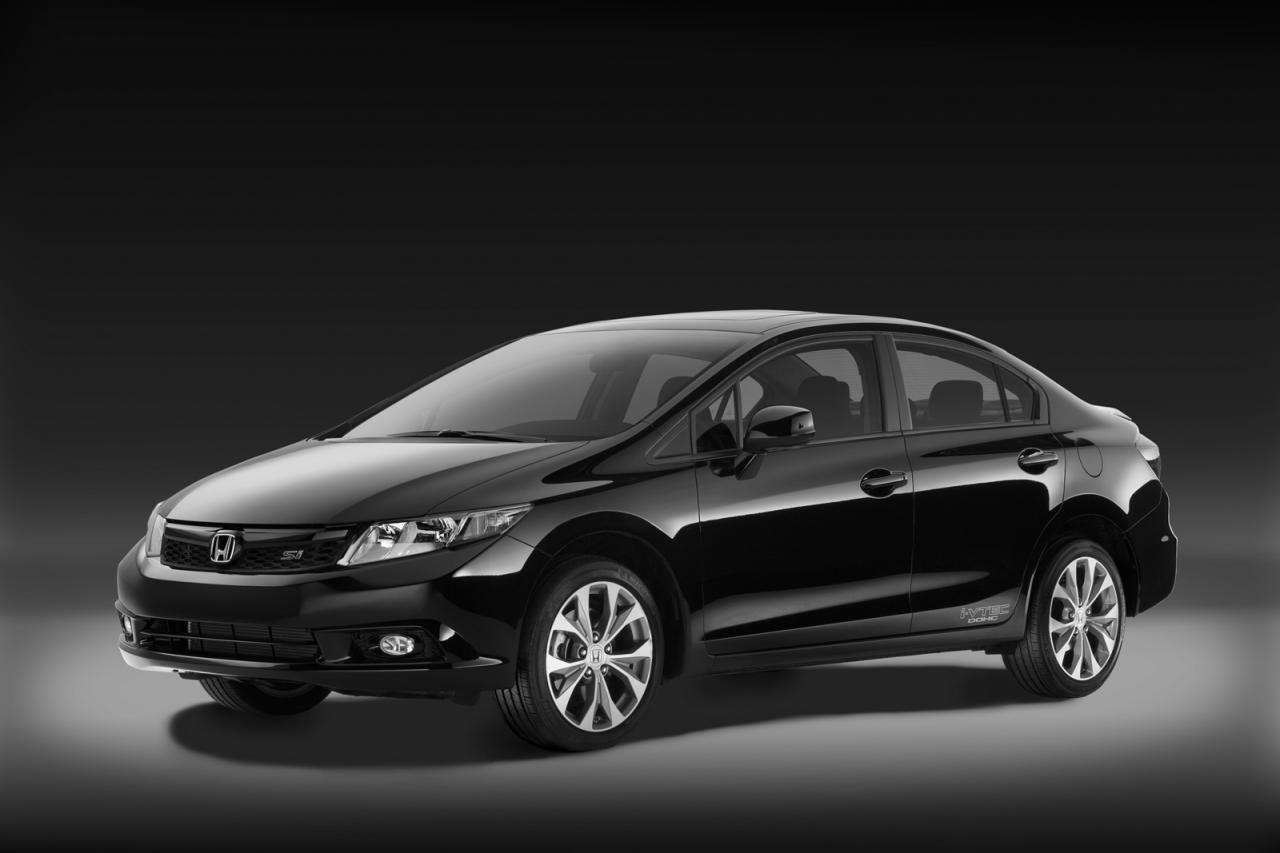Car hood: (147, 434, 583, 533)
Fender - -F-L-: (498, 377, 723, 648)
Fender - -R-L-: (1036, 360, 1158, 588)
Front bumper: (115, 534, 554, 696)
Headlight - -L-: (334, 497, 536, 577)
Headlight - -R-: (134, 492, 176, 558)
Passenger-s door - -F-L-: (663, 290, 936, 674)
Passenger-s door - -R-L-: (874, 297, 1081, 679)
Rear bumper: (1107, 460, 1201, 616)
Rear light - -L-: (1130, 416, 1169, 486)
Side bumper - -L-: (673, 572, 1036, 700)
Side mirror - -L-: (737, 400, 821, 475)
